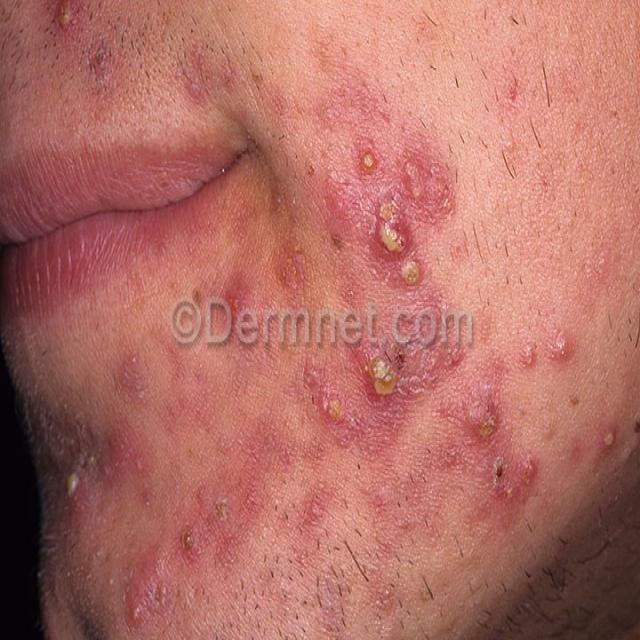blackheads: (372, 207, 414, 255), (366, 352, 404, 405), (594, 418, 622, 459), (352, 139, 381, 178), (51, 1, 80, 40), (63, 460, 84, 506), (551, 330, 575, 366), (515, 337, 537, 370)
